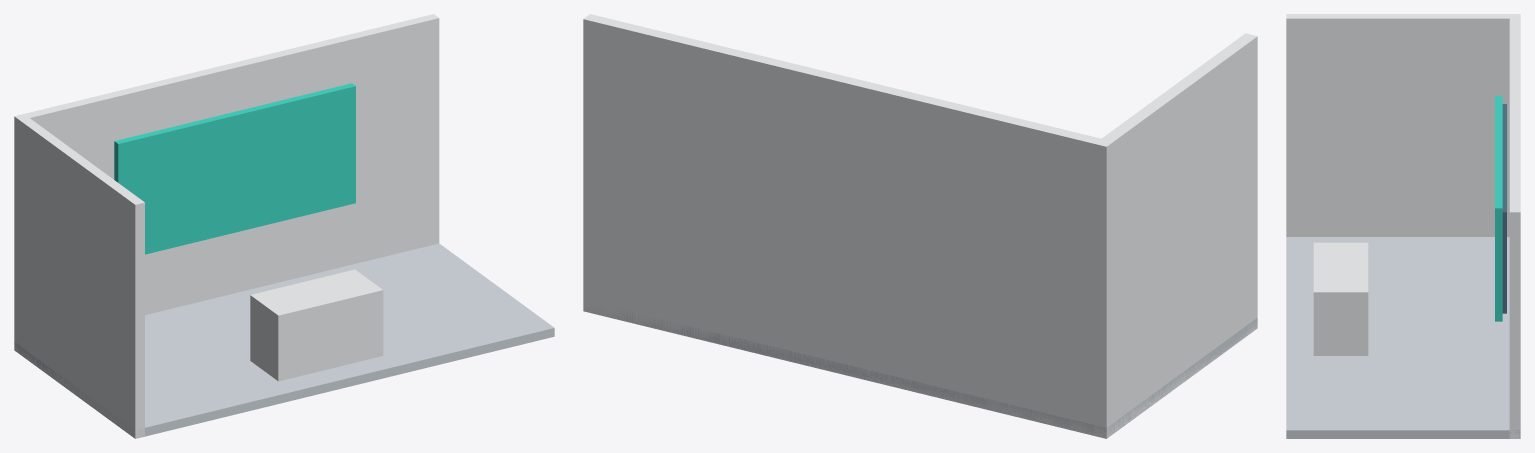
3 views of the same model, side by side, from view 1: azimuth 30°, elevation 25°; view 2: azimuth 150°, elevation 25°; view 3: azimuth 270°, elevation 25° (orthographic). The views are drawn at different scales.
Parts seen in each view (by area): view 1: Exhibition Booth Concept; view 2: Exhibition Booth Concept; view 3: Exhibition Booth Concept.
Part boxes in pixels (bbox=[...]): Exhibition Booth Concept: bbox=[14, 14, 554, 438]; Exhibition Booth Concept: bbox=[583, 14, 1257, 438]; Exhibition Booth Concept: bbox=[1286, 14, 1520, 438].
Bounding box in the file's own units: 6 × 3.2 × 3.
